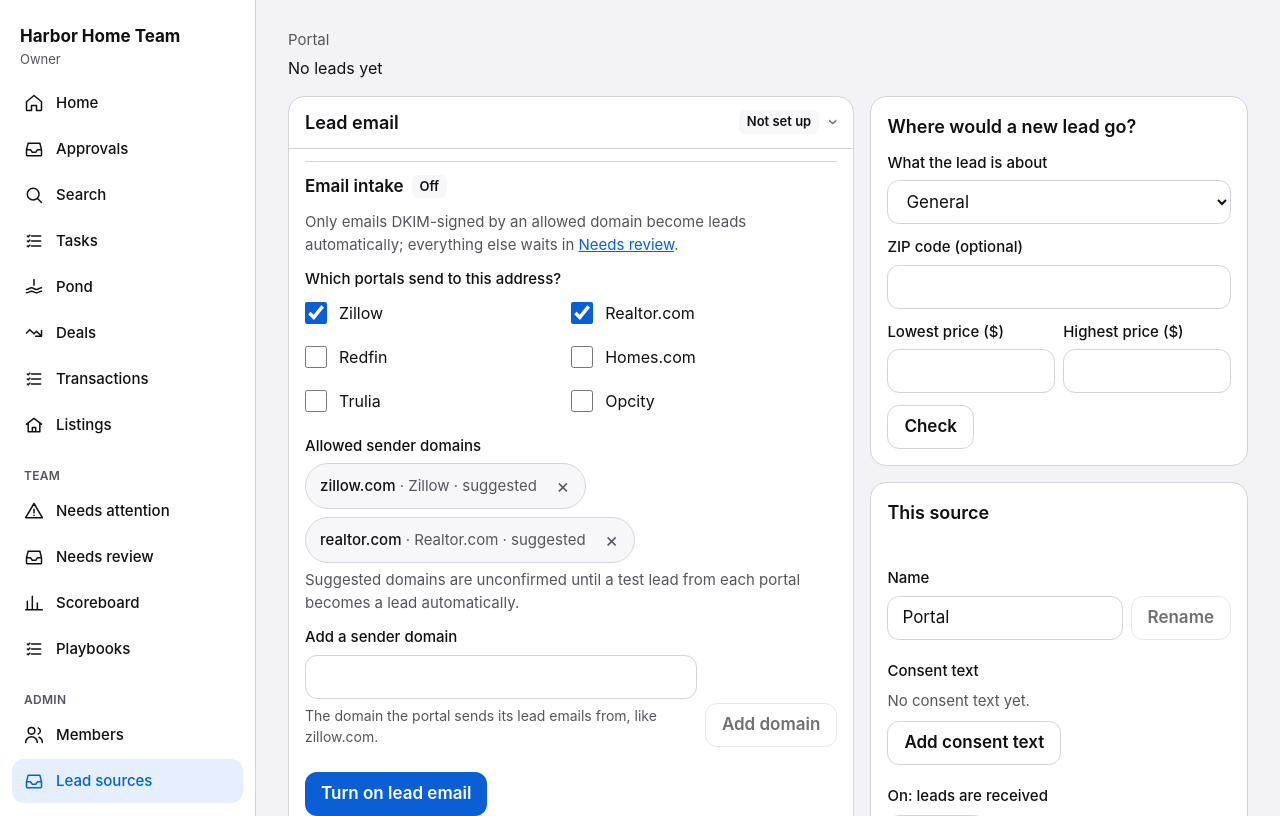
Test: Email intake on a lead source page › a domain the Owner types is not marked suggested; with no suggestion left on the list, the unconfirmed sentence goes
The width and height of the screenshot is (1280, 816).
(page scrolled)
Type "homes.example.test" into the field labelled "Add a sender domain" at (501, 676), box [305,654,697,698]
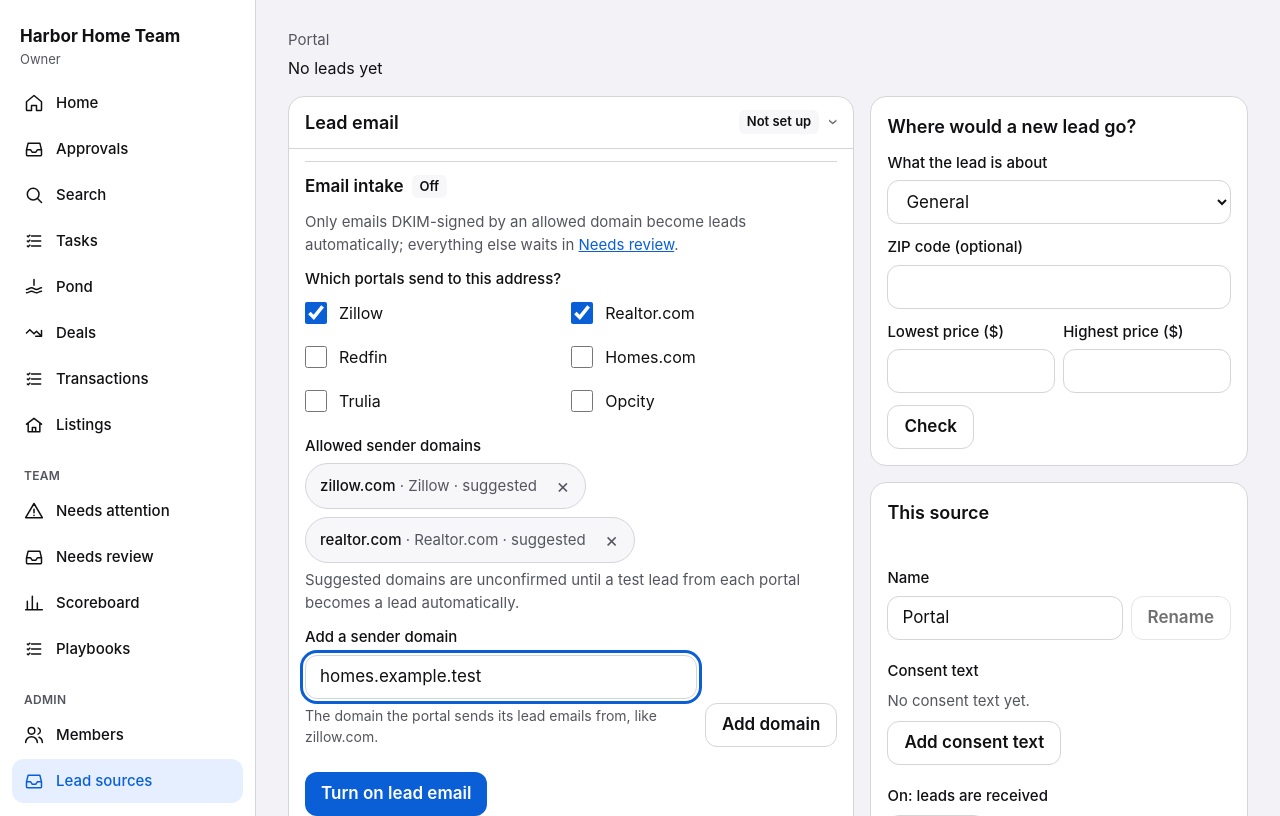
Click the button "Add domain" at (771, 724), box [705,702,837,746]
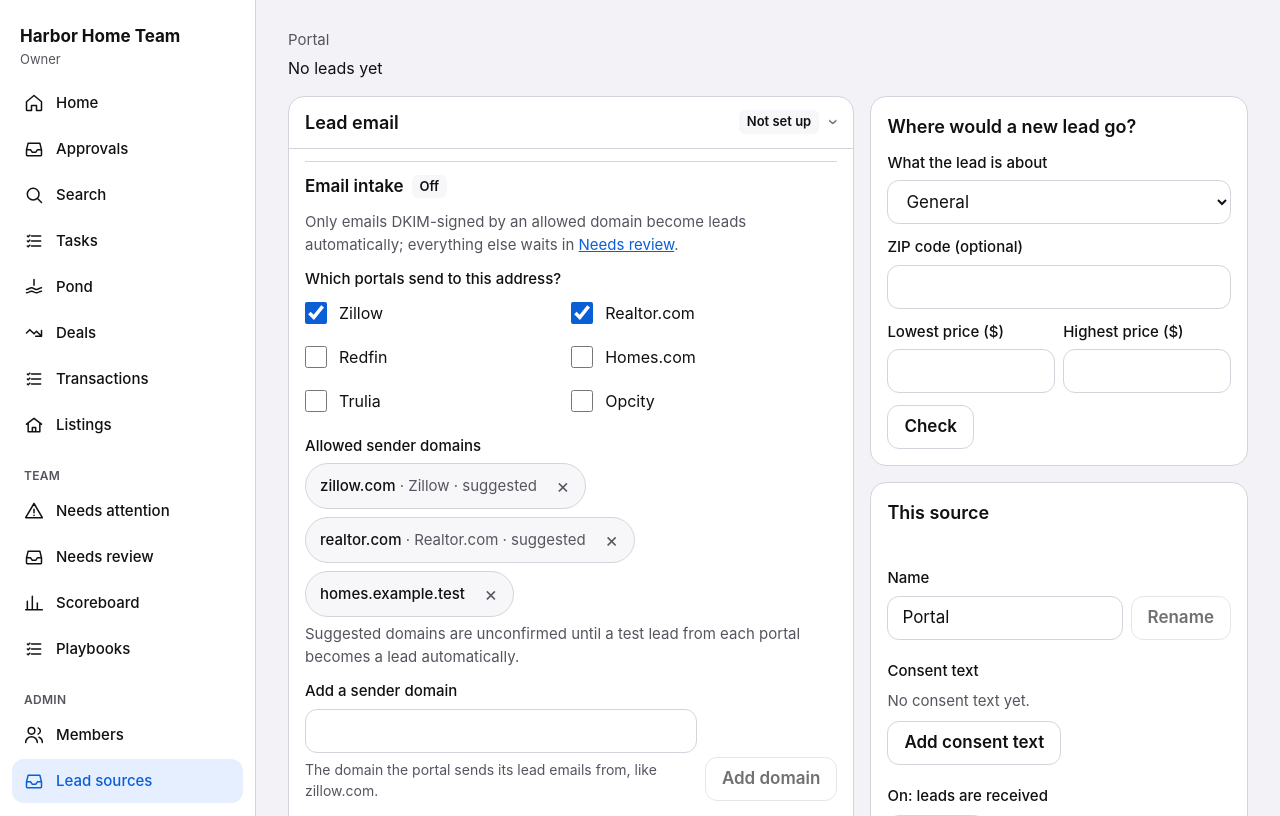
Click the button named "Remove zillow.com" at (563, 486), box [541,464,585,508]
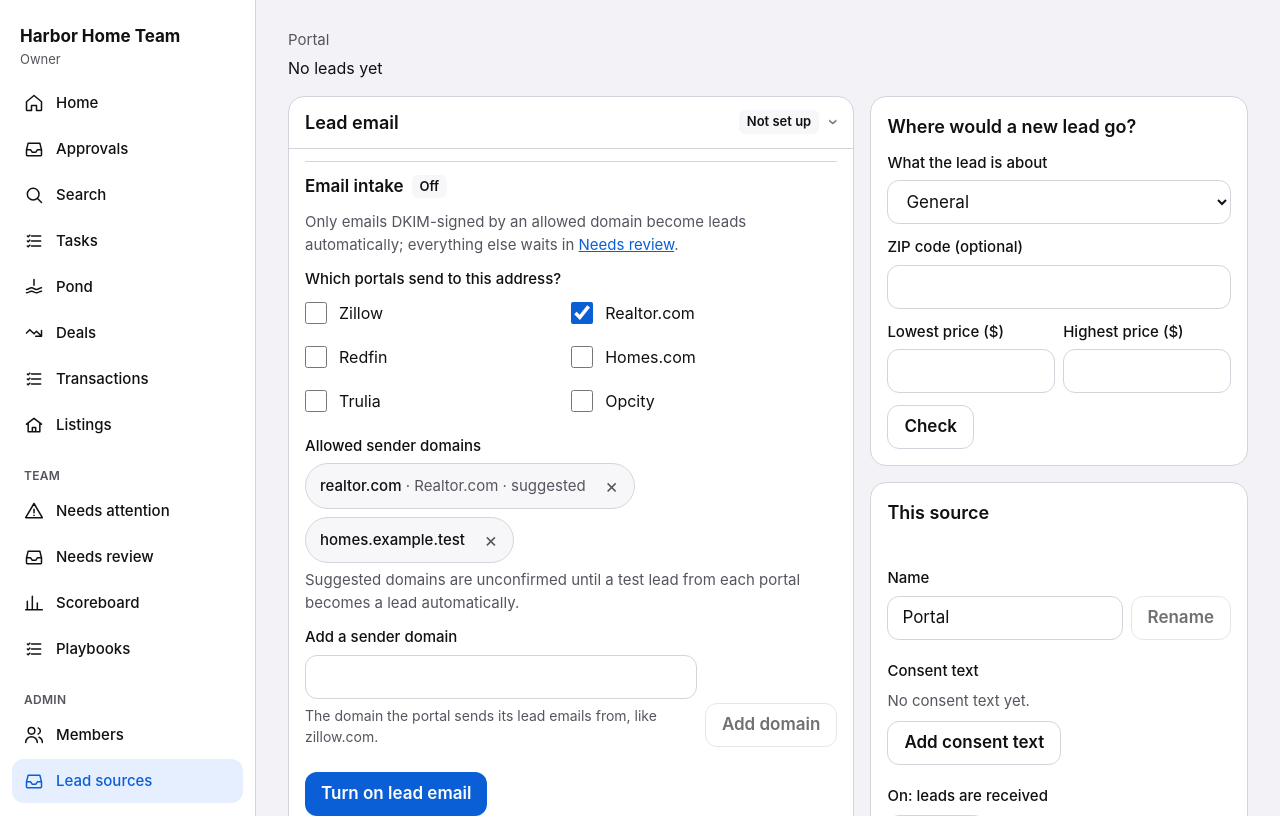
Check: the text "Suggested domains are unconfirmed until a test lead from each portal becomes a lead automatically." is shown, box [305,570,800,612]
Click the button named "Remove realtor.com" at (612, 486), box [590,464,634,508]
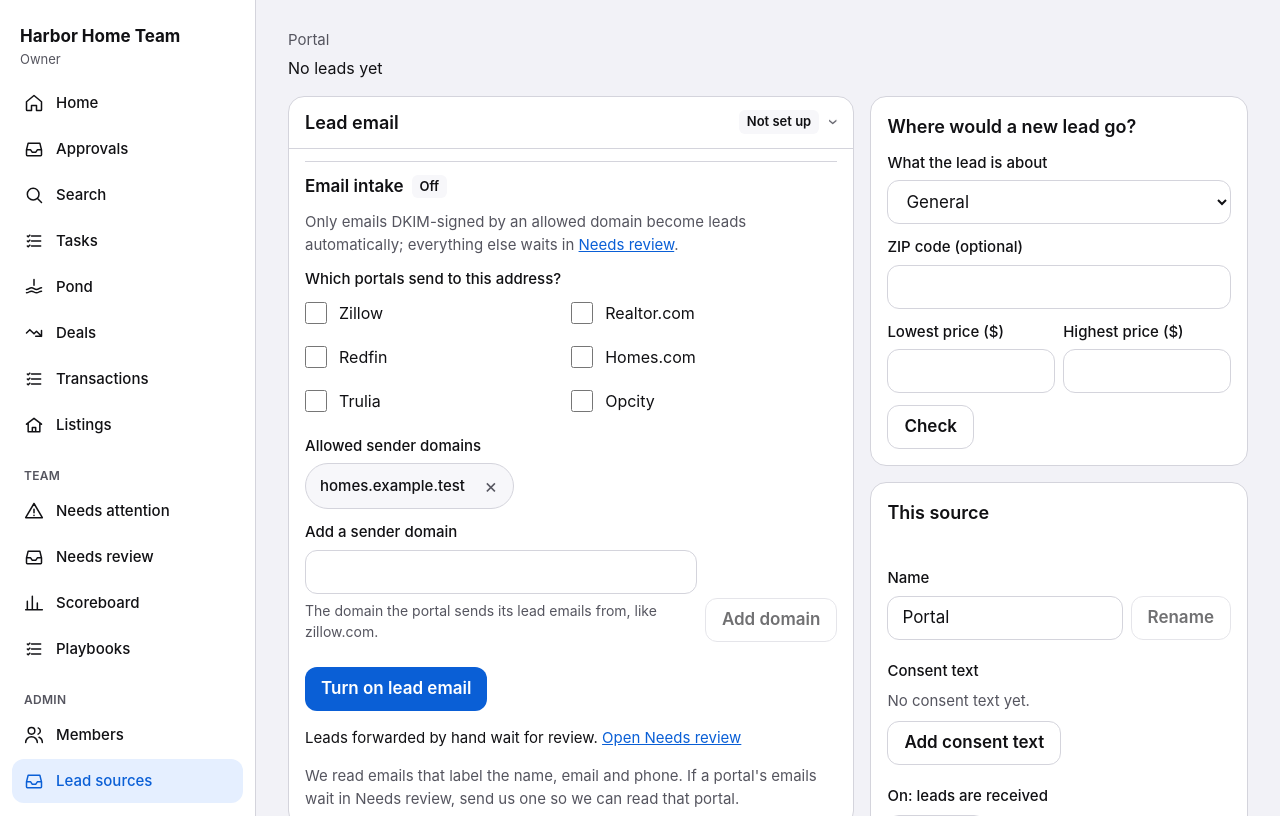
Check: the text "Suggested domains are unconfirmed until a test lead from each portal becomes a lead automatically." is gone
